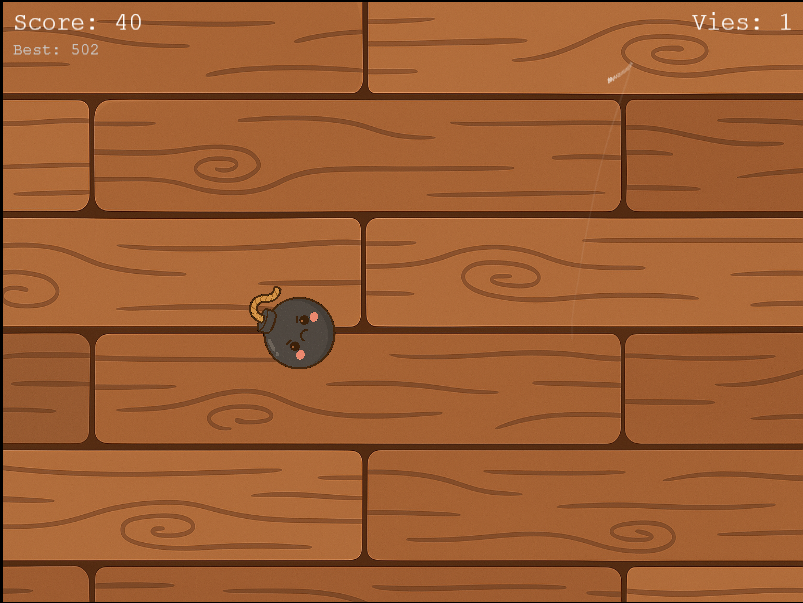bomb: (242, 282, 345, 375)
